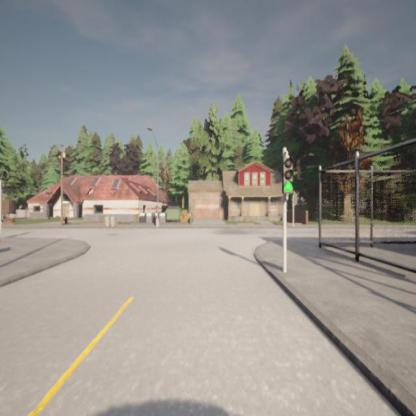traffic_light_green: (283, 154, 294, 194)
